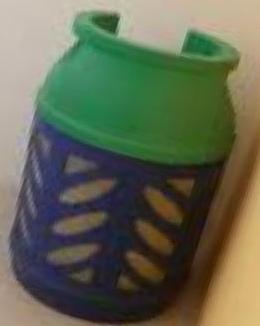cylinder: (1, 0, 260, 326)
